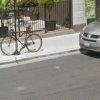Bicycle: (0, 22, 46, 61)
